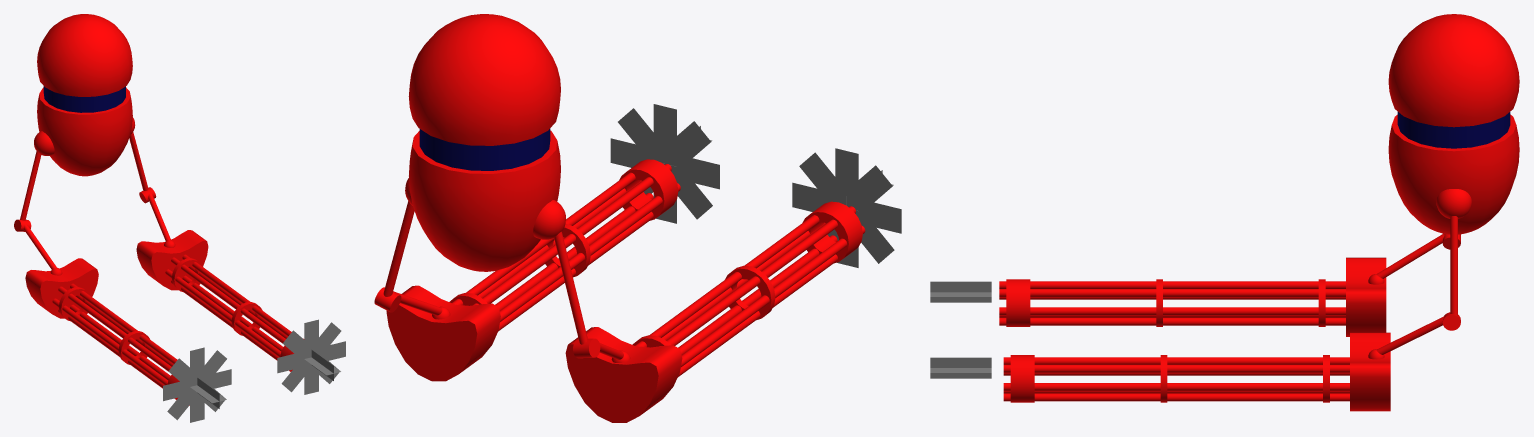
Rendered from BasicEnemy.obj.
3 views of the same model, side by side, from view 1: azimuth 30°, elevation 25°; view 2: azimuth 150°, elevation 25°; view 3: azimuth 270°, elevation 25° (orthographic). The views are drawn at different scales.
Parts seen in each view (by area): view 1: polySurface86, polySurface54, polySurface87, polySurface96, polySurface80, polySurface83, polySurface72, polySurface62, polySurface57, polySurface75, polySurface67, polySurface78 (+5 smaller); view 2: polySurface86, polySurface54, polySurface87, polySurface96, polySurface83, polySurface80, polySurface72, polySurface57, polySurface62, polySurface75, polySurface67, polySurface78 (+2 smaller); view 3: polySurface87, polySurface96, polySurface86, polySurface54, polySurface83, polySurface80, polySurface75, polySurface65, polySurface105, polySurface55, polySurface76, polySurface81 (+1 smaller).
Boxes of the visible parts, bbox=[...] form: polySurface86: bbox=[37, 14, 132, 96]; polySurface54: bbox=[37, 87, 132, 176]; polySurface87: bbox=[52, 283, 189, 405]; polySurface96: bbox=[165, 254, 304, 371]; polySurface80: bbox=[25, 258, 98, 318]; polySurface83: bbox=[136, 230, 208, 290]; polySurface72: bbox=[277, 319, 345, 394]; polySurface62: bbox=[163, 347, 231, 422]; polySurface57: bbox=[167, 350, 226, 420]; polySurface75: bbox=[43, 86, 125, 112]; polySurface67: bbox=[281, 322, 341, 392]; polySurface78: bbox=[20, 151, 41, 220]; polySurface86: bbox=[408, 14, 560, 145]; polySurface54: bbox=[409, 130, 560, 271]; polySurface87: bbox=[632, 201, 865, 377]; polySurface96: bbox=[449, 159, 680, 331]; polySurface83: bbox=[386, 285, 500, 381]; polySurface80: bbox=[565, 327, 682, 422]; polySurface72: bbox=[610, 104, 719, 223]; polySurface57: bbox=[799, 152, 894, 263]; polySurface62: bbox=[792, 148, 901, 267]; polySurface75: bbox=[419, 128, 550, 170]; polySurface67: bbox=[618, 108, 712, 219]; polySurface78: bbox=[554, 231, 587, 344]; polySurface87: bbox=[999, 279, 1345, 326]; polySurface96: bbox=[1003, 355, 1349, 402]; polySurface86: bbox=[1388, 14, 1519, 127]; polySurface54: bbox=[1388, 114, 1519, 234]; polySurface83: bbox=[1350, 332, 1390, 411]; polySurface80: bbox=[1346, 257, 1386, 336]; polySurface75: bbox=[1397, 112, 1510, 148]; polySurface65: bbox=[930, 281, 991, 302]; polySurface105: bbox=[930, 357, 991, 378]; polySurface55: bbox=[1436, 189, 1471, 218]; polySurface76: bbox=[1450, 216, 1457, 315]; polySurface81: bbox=[1376, 233, 1444, 278].
Size of the model in its own units: 62.06 by 85.66 by 127.
